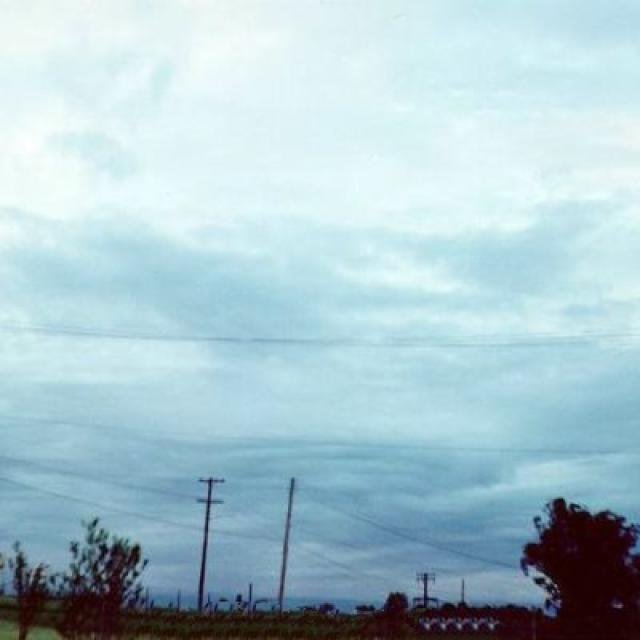Sc: (1, 23, 640, 438)
